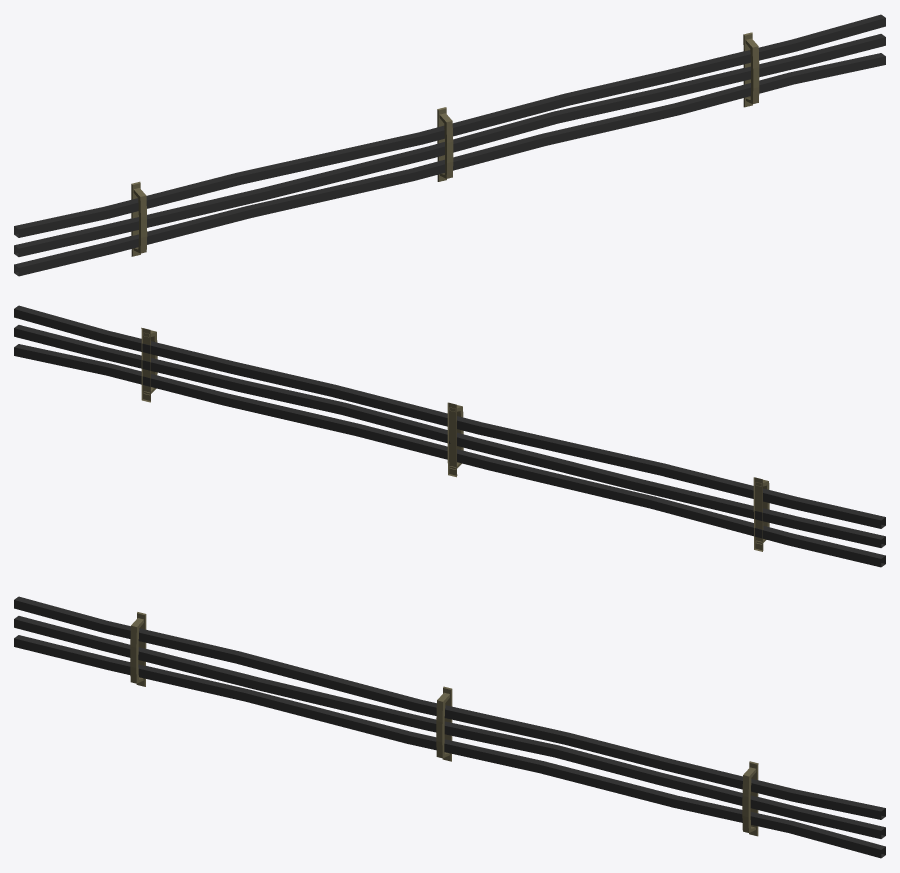
File: SW_ENV_Wires3_StationWall_4-25m.fbx
3 renders of one model, top to bottom at view 1: azimuth 30°, elevation 25°; view 2: azimuth 150°, elevation 25°; view 3: azimuth 330°, elevation 25°, orthographic.
Visible parts, largest first — view 1: SW_ENV_Wires3_StationWall_4-25m; view 2: SW_ENV_Wires3_StationWall_4-25m; view 3: SW_ENV_Wires3_StationWall_4-25m.
Boxes of the visible parts, <box> form: SW_ENV_Wires3_StationWall_4-25m: <box>14,14,885,276</box>; SW_ENV_Wires3_StationWall_4-25m: <box>14,305,885,567</box>; SW_ENV_Wires3_StationWall_4-25m: <box>14,596,885,858</box>.
Bounding box in the file's own units: 425 × 34.12 × 7.24.
